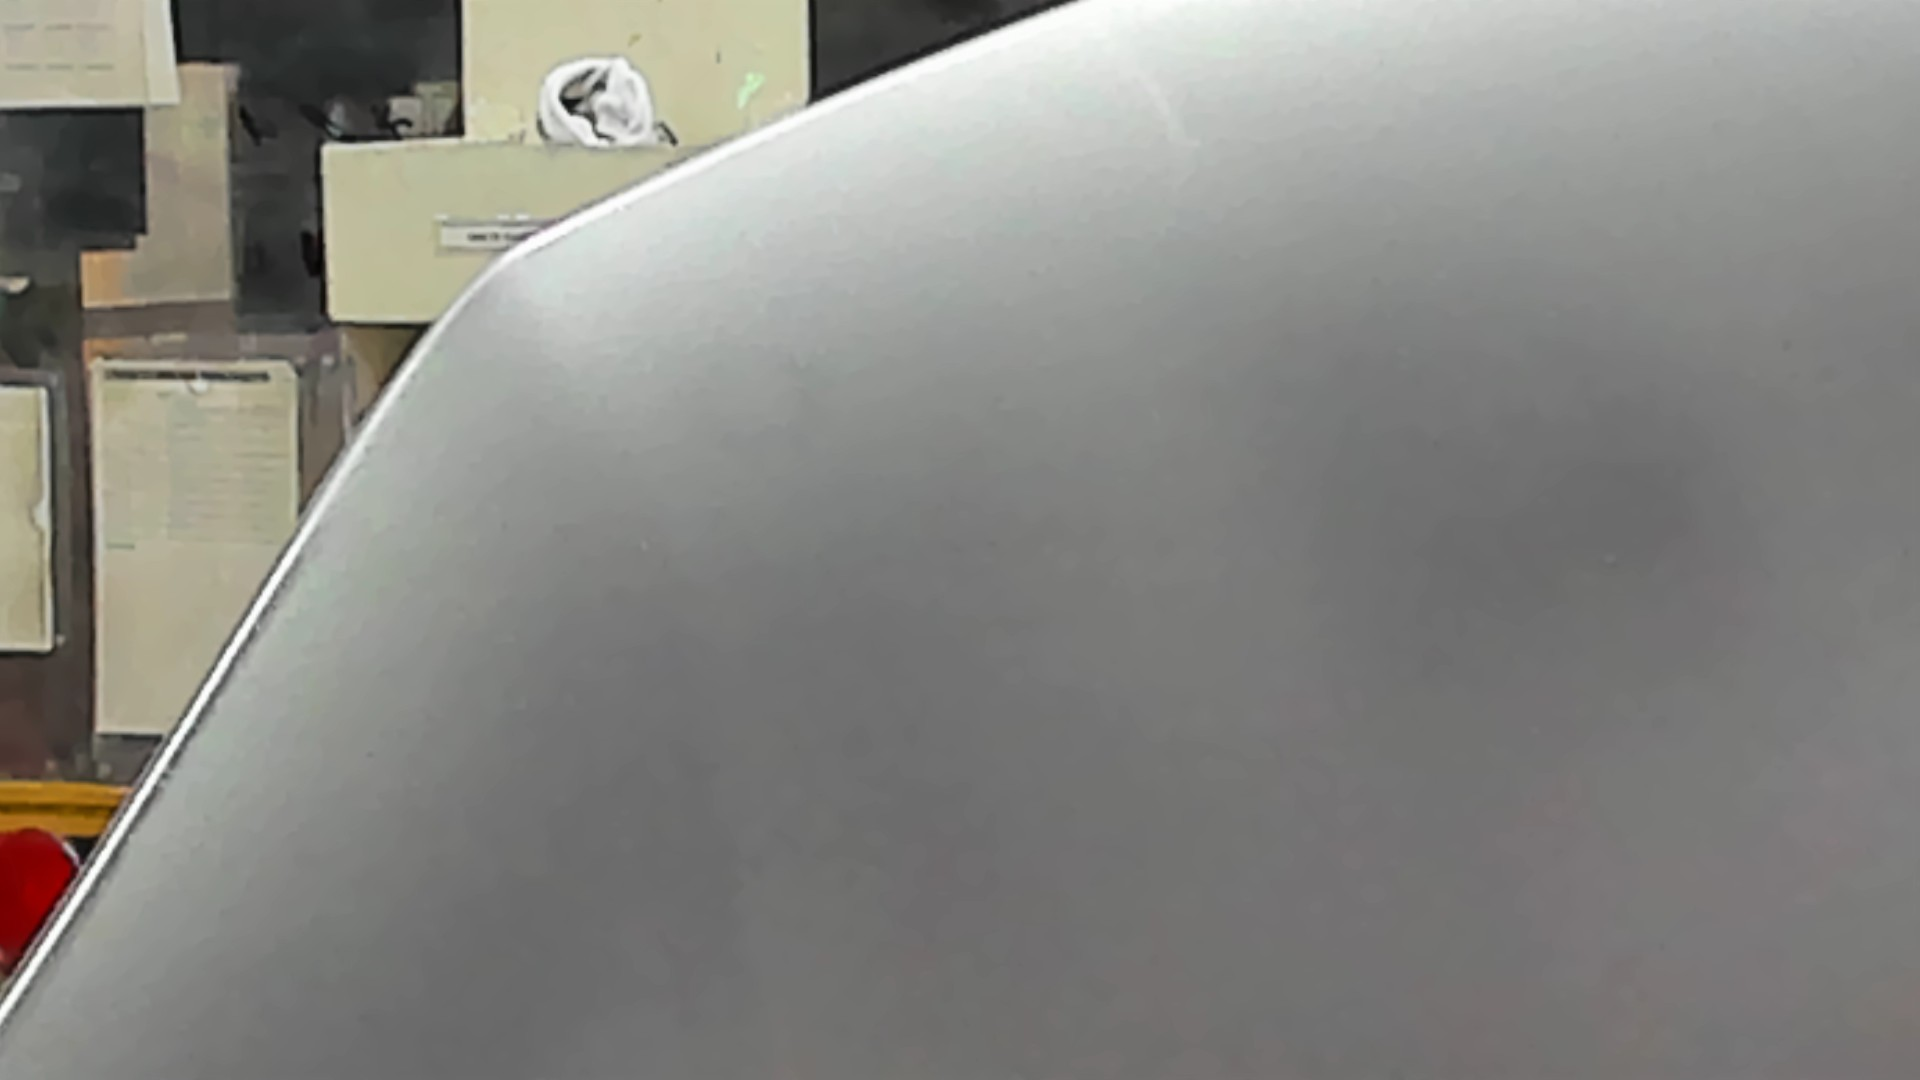capo: (719, 179, 1920, 1080)
